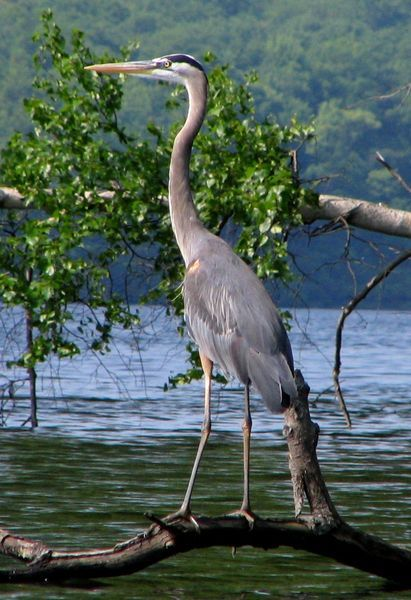heron: (77, 54, 295, 532)
